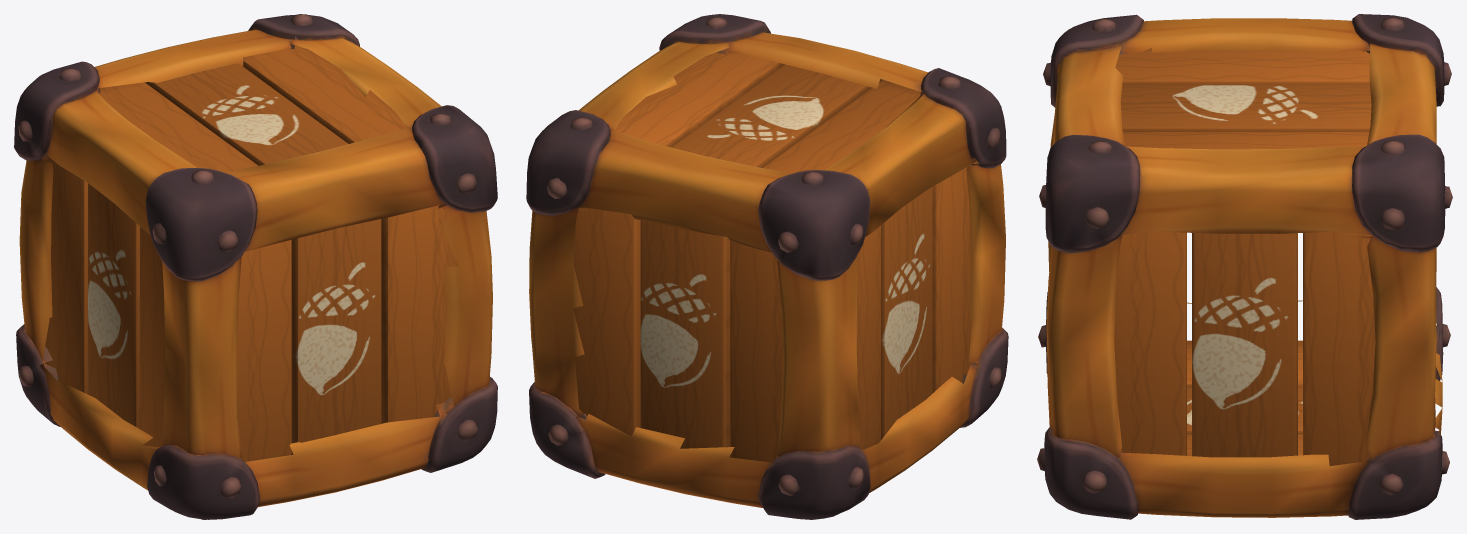
The model's file is breakable_crate.glb.
The picture shows the model from 3 angles, left to right: view 1: azimuth 30°, elevation 25°; view 2: azimuth 150°, elevation 25°; view 3: azimuth 270°, elevation 25°; orthographic projection. The views are drawn at different scales.
Parts seen in each view (by area): view 1: BreakableCrate; view 2: BreakableCrate; view 3: BreakableCrate.
Part boxes in pixels (bbox=[...]): BreakableCrate: bbox=[14, 14, 497, 519]; BreakableCrate: bbox=[526, 14, 1008, 519]; BreakableCrate: bbox=[1037, 14, 1452, 519].
Bounding box in the file's own units: 0.9971 × 1 × 1.
2 materials, 2 textured.
